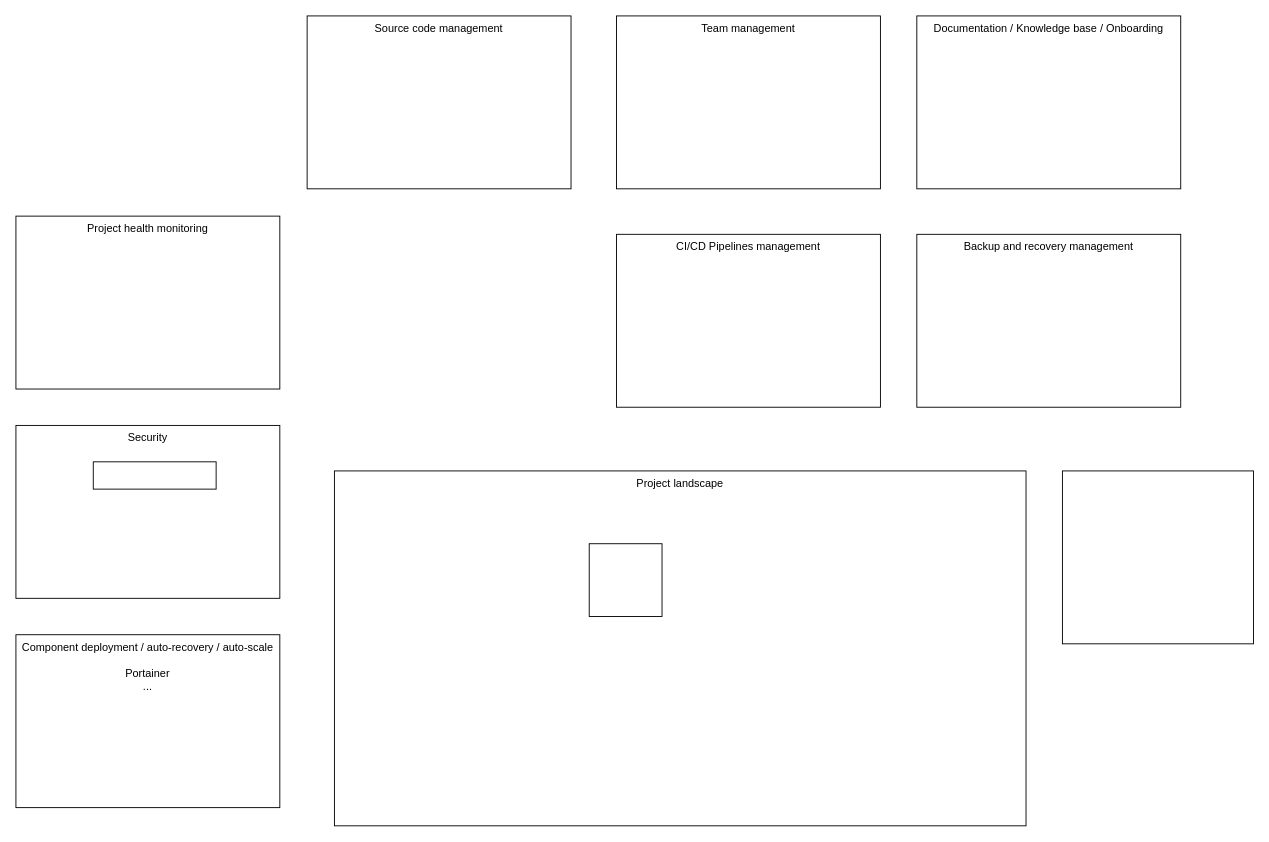
This 1269x842 diagram has some shape labels left out. The shapes that lost their labels are listed below. From the top down, each one's centre as x and y in pixels, then its label:
point 154,475: Credential provider (Vault)
point 1158,557: Business analysis
point 625,580: Discovery management (use host names instead of IPs)
